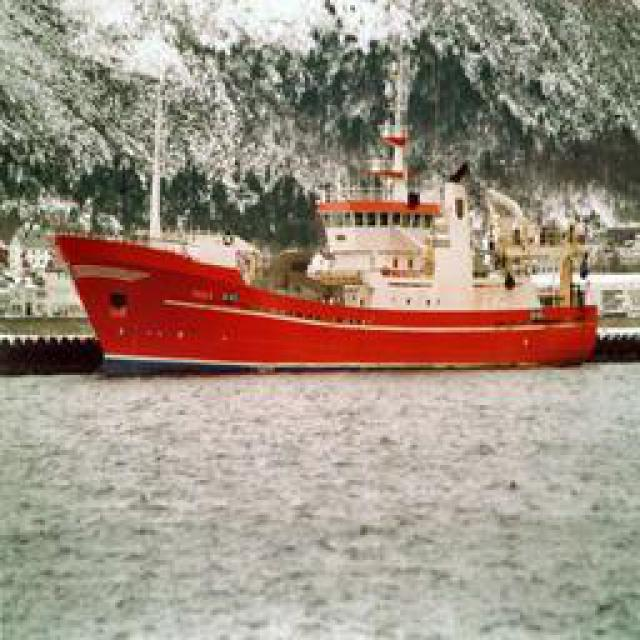Ship: (51, 180, 594, 375)
